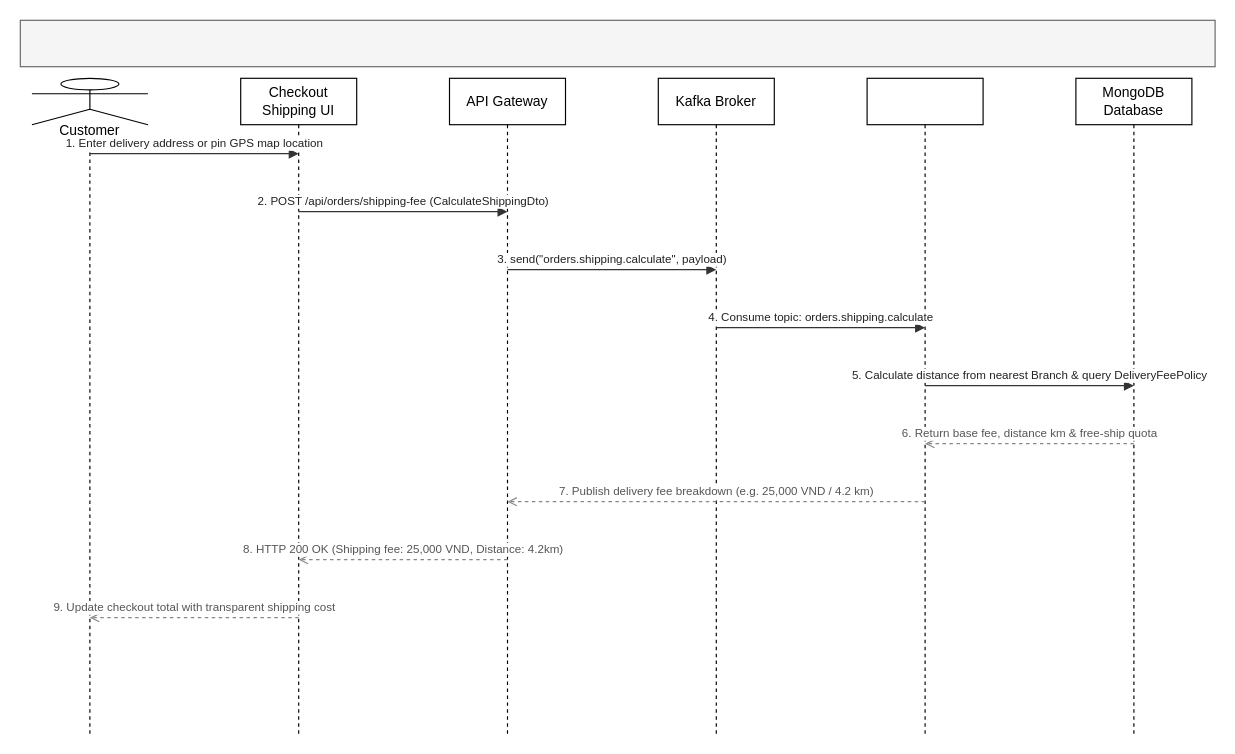
Image size: 1235x754. Some labels were removed from this diagram. The centre of each missing label's shape, as x and y in pixels:
Orders Service: the point at 924,405
Sequence Diagram - UC-86: Distance-based Delivery Fee Calculation: the point at 617,43
